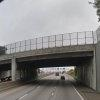Bridge: (4, 25, 94, 76)
